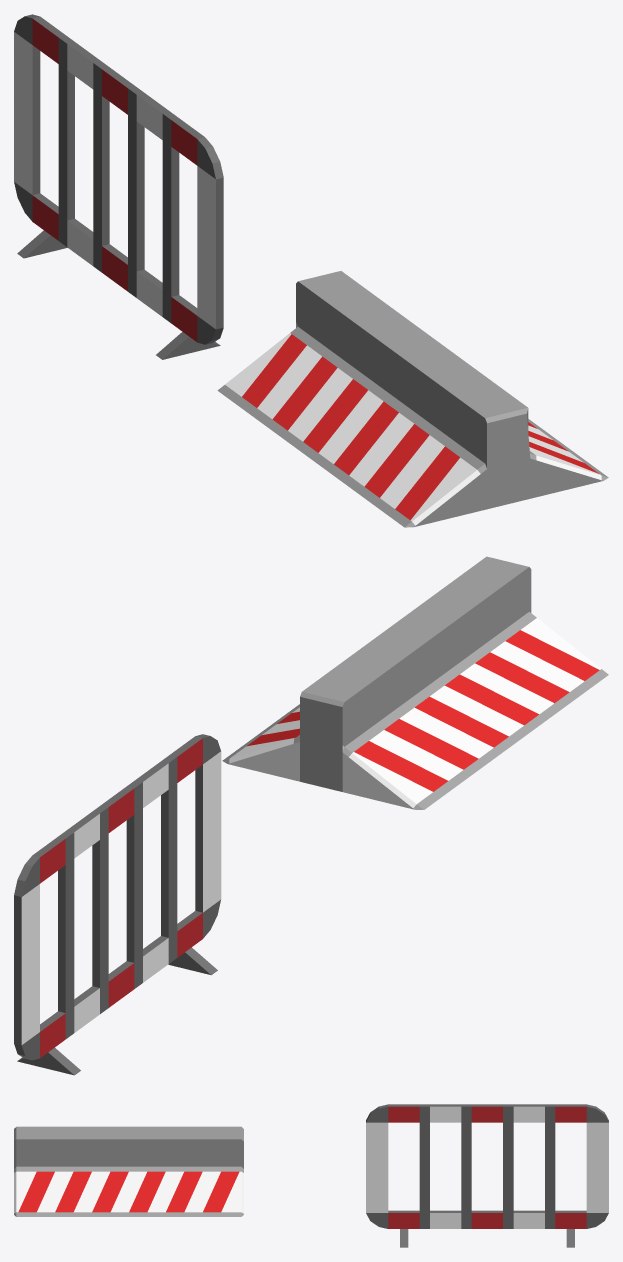
Rendered from Ograde.fbx.
3 renders of one model, top to bottom at view 1: azimuth 30°, elevation 25°; view 2: azimuth 150°, elevation 25°; view 3: azimuth 270°, elevation 25°, orthographic. The views are drawn at different scales.
Visible parts, largest first — view 1: FenceLow, FenceHigh; view 2: FenceLow, FenceHigh; view 3: FenceLow, FenceHigh.
Part boxes in pixels (x1,y1,x2,y2): FenceLow: [217, 271, 608, 527]; FenceHigh: [14, 14, 223, 359]; FenceLow: [222, 556, 608, 809]; FenceHigh: [14, 734, 221, 1075]; FenceLow: [14, 1126, 243, 1216]; FenceHigh: [366, 1104, 608, 1247].
Bounding box in the file's own units: 332 × 344 × 1389.
